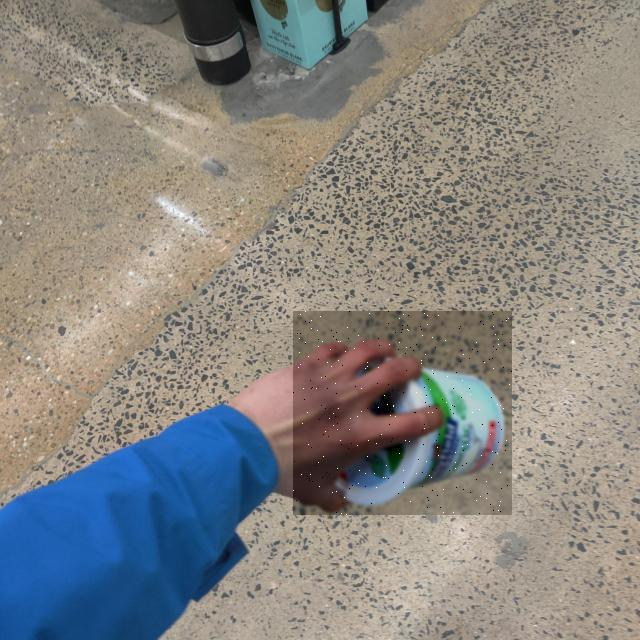Yoghurt: (293, 311, 512, 515)
